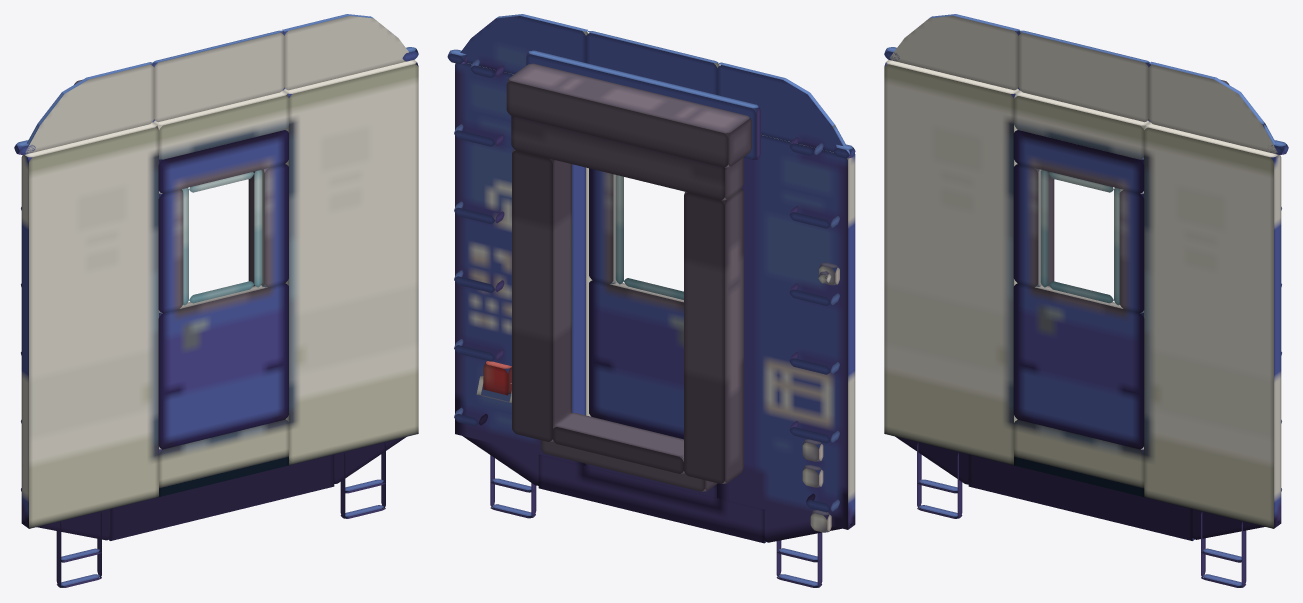
File: wx980_door_end_face.obj
The picture shows the model from 3 angles, left to right: view 1: azimuth 30°, elevation 25°; view 2: azimuth 150°, elevation 25°; view 3: azimuth 330°, elevation 25°; orthographic projection.
Visible parts, largest first — view 1: part_08b17dcb69c36fdf7963f375f68d29d6, part_3851758af59c0c640f49611af8fa1ef2, part_47e4f815aded3629c8d13fc13840b64b, part_bfd558084b915211d0d8719fd4319af4, part_6f2b54585f4e0ed23b856ba3ed32e6cd, part_ac7846158064679482825a7a89515bd7, part_85a14d5aa97973eba1c62f13fbaa1d10, part_8b1a8e610ceb26244487fab0dbb1ffa6, part_ee50952289d6dfa6e4f550899d7b297f, part_9539d1a54be1c81f38c39eecbd91030e, part_69b1174cf29516a850b2d32cae519901, part_b54f906f3863fb0e88072d1477eff58e (+4 smaller); view 2: part_08b17dcb69c36fdf7963f375f68d29d6, part_3851758af59c0c640f49611af8fa1ef2, part_56b6bd73a3d9a4642970caaa7551b512, part_f7e26d38d634b981a5bc06cebc1624b2, part_47e4f815aded3629c8d13fc13840b64b, part_adb62e560b791ccd5264ab1bb98a3912, part_bfd558084b915211d0d8719fd4319af4, part_b62731f2be6c43449145a1e8127d45ef, part_6f2b54585f4e0ed23b856ba3ed32e6cd, part_d09307f7a0194ecc719f79a5cc58cd64, part_0e3fc5bcc9c4f23eef3bbdbba069e3c3, part_2f510c72c4b8268ea05ca84d9b40bb7a (+7 smaller); view 3: part_3851758af59c0c640f49611af8fa1ef2, part_08b17dcb69c36fdf7963f375f68d29d6, part_47e4f815aded3629c8d13fc13840b64b, part_bfd558084b915211d0d8719fd4319af4, part_6f2b54585f4e0ed23b856ba3ed32e6cd, part_ac7846158064679482825a7a89515bd7, part_85a14d5aa97973eba1c62f13fbaa1d10, part_8b1a8e610ceb26244487fab0dbb1ffa6, part_9539d1a54be1c81f38c39eecbd91030e, part_ee50952289d6dfa6e4f550899d7b297f, part_69b1174cf29516a850b2d32cae519901, part_b54f906f3863fb0e88072d1477eff58e (+4 smaller).
Boxes of the visible parts, x1,y1,x2,y2 form: part_08b17dcb69c36fdf7963f375f68d29d6: (21,122,158,528); part_3851758af59c0c640f49611af8fa1ef2: (283,60,418,465); part_47e4f815aded3629c8d13fc13840b64b: (25,14,408,153); part_bfd558084b915211d0d8719fd4319af4: (158,283,288,449); part_6f2b54585f4e0ed23b856ba3ed32e6cd: (108,454,334,540); part_ac7846158064679482825a7a89515bd7: (159,418,289,496); part_85a14d5aa97973eba1c62f13fbaa1d10: (153,90,289,159); part_8b1a8e610ceb26244487fab0dbb1ffa6: (158,130,288,193); part_ee50952289d6dfa6e4f550899d7b297f: (261,164,288,287); part_9539d1a54be1c81f38c39eecbd91030e: (158,189,183,312); part_69b1174cf29516a850b2d32cae519901: (23,509,110,540); part_b54f906f3863fb0e88072d1477eff58e: (334,437,405,483); part_08b17dcb69c36fdf7963f375f68d29d6: (717,135,855,529); part_3851758af59c0c640f49611af8fa1ef2: (455,63,592,465); part_56b6bd73a3d9a4642970caaa7551b512: (684,189,743,483); part_f7e26d38d634b981a5bc06cebc1624b2: (512,149,571,441); part_47e4f815aded3629c8d13fc13840b64b: (460,14,849,154); part_adb62e560b791ccd5264ab1bb98a3912: (506,63,751,167); part_bfd558084b915211d0d8719fd4319af4: (589,280,683,439); part_b62731f2be6c43449145a1e8127d45ef: (511,115,743,200); part_6f2b54585f4e0ed23b856ba3ed32e6cd: (538,454,765,543); part_d09307f7a0194ecc719f79a5cc58cd64: (552,413,685,473); part_0e3fc5bcc9c4f23eef3bbdbba069e3c3: (526,50,760,159); part_2f510c72c4b8268ea05ca84d9b40bb7a: (572,164,585,415); part_3851758af59c0c640f49611af8fa1ef2: (1144,122,1281,528); part_08b17dcb69c36fdf7963f375f68d29d6: (884,60,1019,465); part_47e4f815aded3629c8d13fc13840b64b: (890,14,1277,153); part_bfd558084b915211d0d8719fd4319af4: (1013,283,1144,449); part_6f2b54585f4e0ed23b856ba3ed32e6cd: (968,454,1194,540); part_ac7846158064679482825a7a89515bd7: (1014,418,1144,496); part_85a14d5aa97973eba1c62f13fbaa1d10: (1014,90,1149,159); part_8b1a8e610ceb26244487fab0dbb1ffa6: (1013,130,1144,193); part_9539d1a54be1c81f38c39eecbd91030e: (1013,164,1041,287); part_ee50952289d6dfa6e4f550899d7b297f: (1119,189,1144,313); part_69b1174cf29516a850b2d32cae519901: (895,436,968,484); part_b54f906f3863fb0e88072d1477eff58e: (1192,509,1279,539).
Size of the model in its own units: 3.06 by 3.66 by 0.5452.
